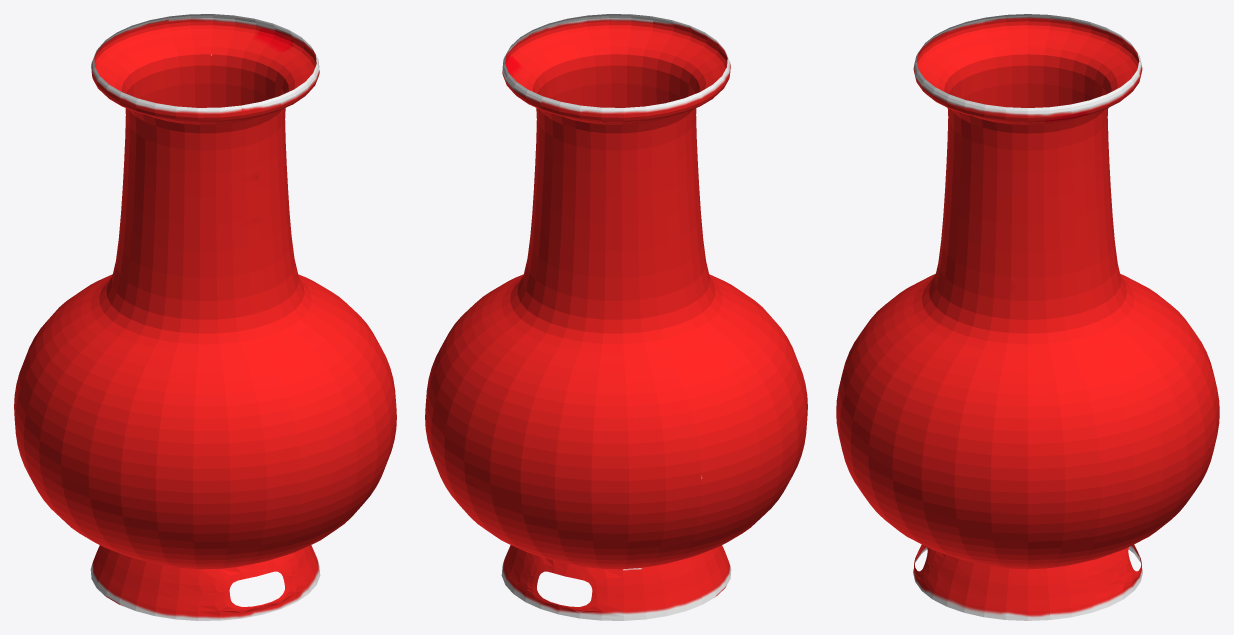
Rendered from bottle_bundle.gltf.
3 views of the same model, side by side, from view 1: azimuth 30°, elevation 25°; view 2: azimuth 150°, elevation 25°; view 3: azimuth 270°, elevation 25° (orthographic).
Visible parts, largest first — view 1: bottle; view 2: bottle; view 3: bottle.
Boxes of the visible parts, <box> form: bottle: <box>14,14,396,620</box>; bottle: <box>425,14,807,620</box>; bottle: <box>836,14,1219,620</box>.
Bounding box in the file's own units: 8.13 × 11.95 × 8.13.
1 material, 1 textured.
